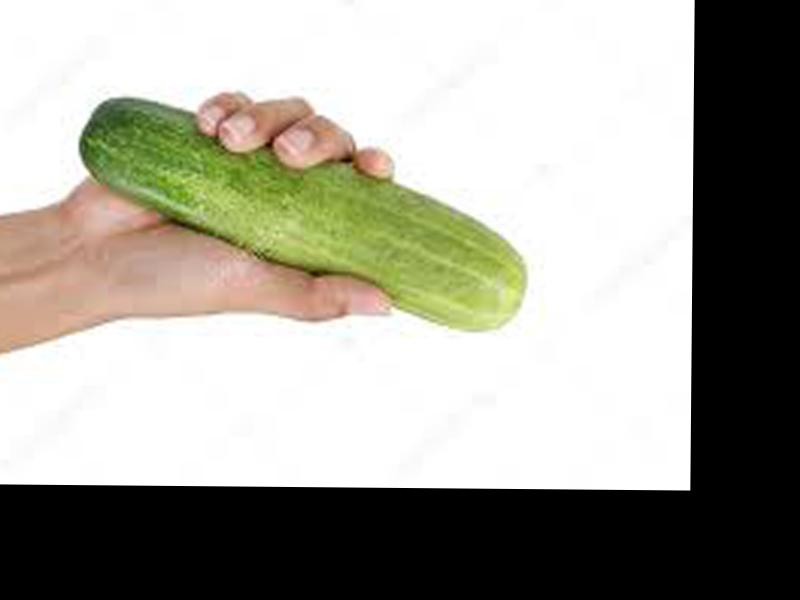Cucumber: (76, 100, 525, 335)
